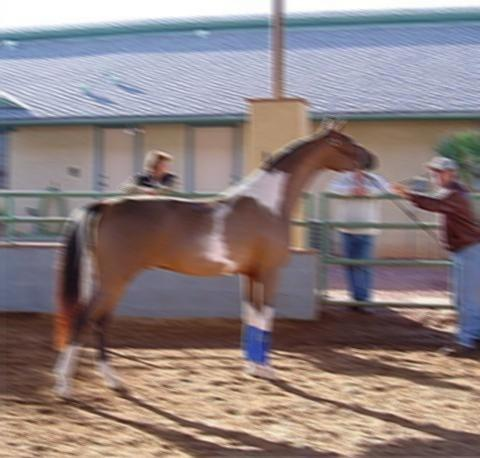horse: (51, 114, 377, 402)
